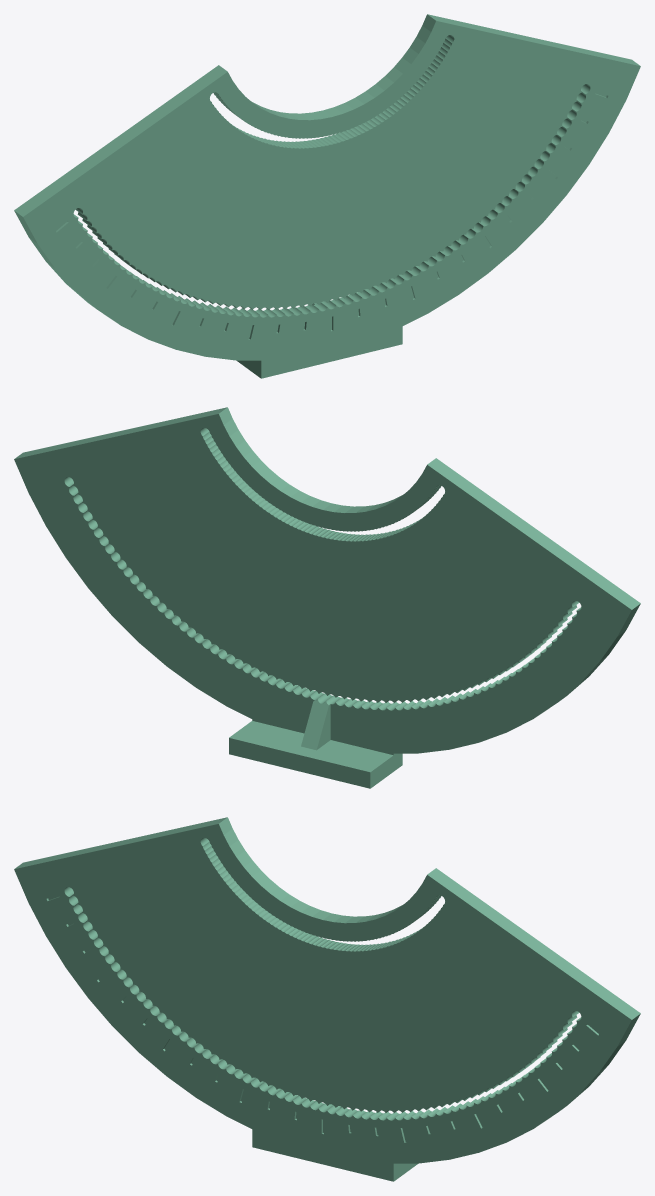
3 views of the same model, one above another, from view 1: azimuth 30°, elevation 25°; view 2: azimuth 150°, elevation 25°; view 3: azimuth 330°, elevation 25° (orthographic).
Parts seen in each view (by area): view 1: W12_angle_adjustable_guide_arm; view 2: W12_angle_adjustable_guide_arm; view 3: W12_angle_adjustable_guide_arm.
Boxes of the visible parts, x1=… form: W12_angle_adjustable_guide_arm: x1=14, y1=14, x2=640, y2=378; W12_angle_adjustable_guide_arm: x1=14, y1=407, x2=640, y2=788; W12_angle_adjustable_guide_arm: x1=14, y1=817, x2=640, y2=1181.
Bounding box in the file's own units: 157 × 76.6 × 14.25.
